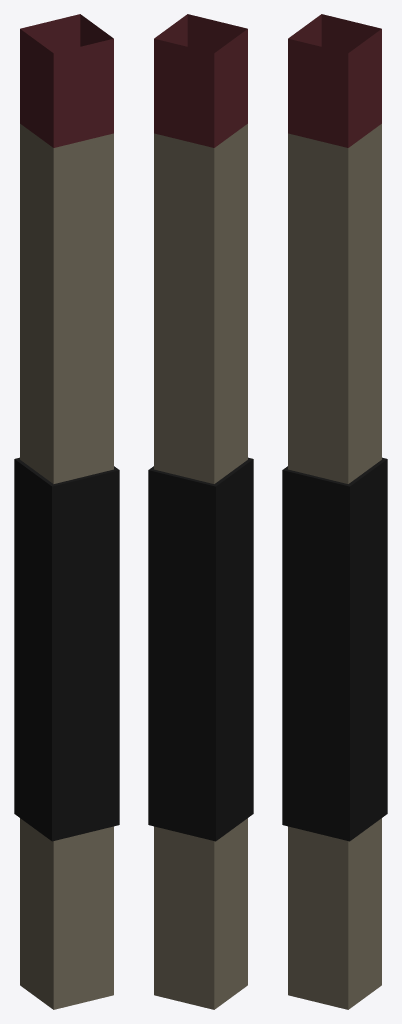
File: SM_pillar_01.fbx
3 renders of one model, left to right at view 1: azimuth 30°, elevation 25°; view 2: azimuth 150°, elevation 25°; view 3: azimuth 330°, elevation 25°, orthographic.
Parts seen in each view (by area): view 1: pillar_01; view 2: pillar_01; view 3: pillar_01.
Part boxes in pixels (x1,y1,x2,y2): pillar_01: (14,14,119,1009); pillar_01: (148,14,253,1009); pillar_01: (282,14,387,1009).
Size of the model in its own units: 22.52 by 305 by 21.82.
